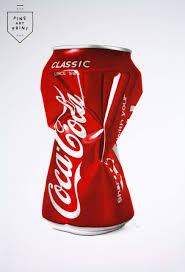Soda Can: (36, 42, 146, 238)
